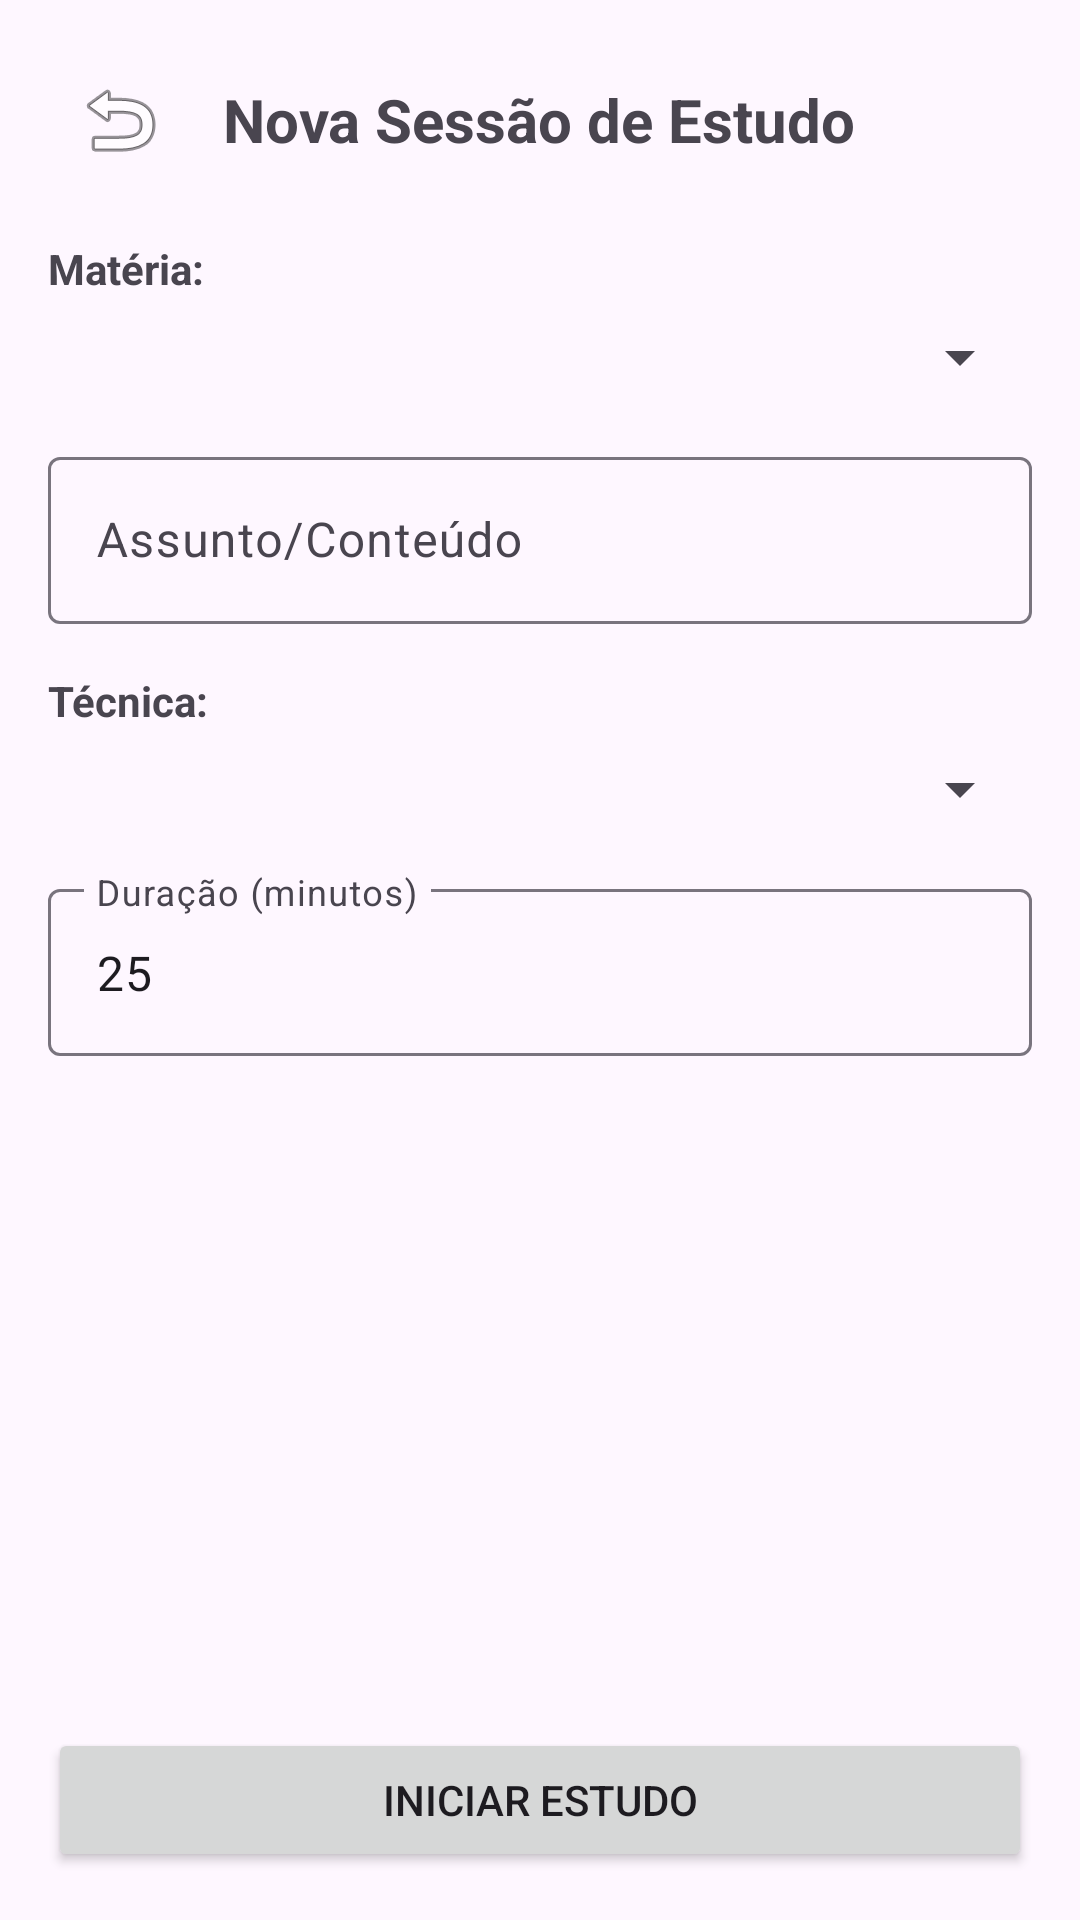

Named icons in this screenshot (1080×1920) and their bounding boxes, detection(x1, y1, x2, y2):
Voltar: detection(87, 89, 156, 152)
